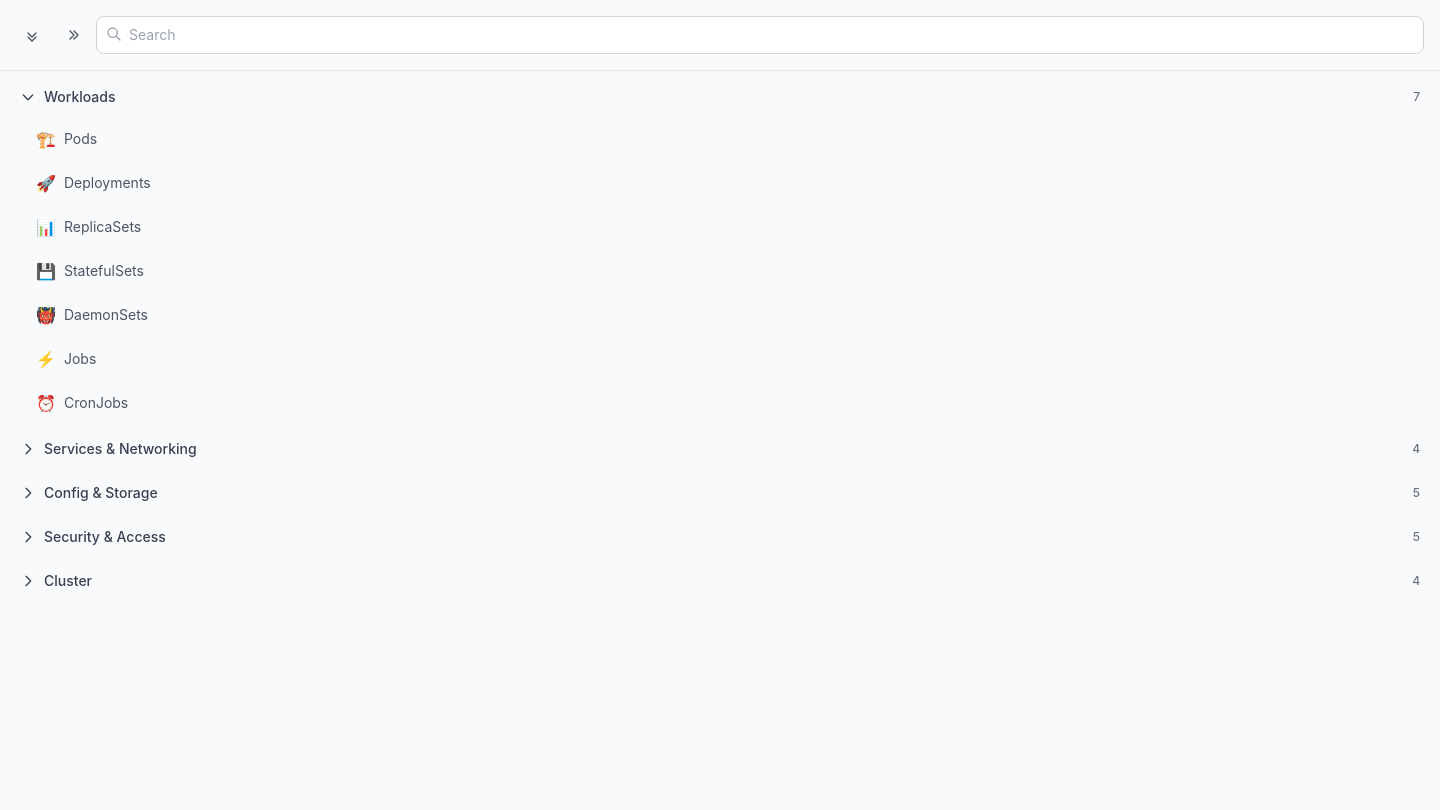
Test: ResourceTree › clearSearch › should restore expand/collapse buttons after clearing search
Type "pod" into the field with placeholder "Search".
click(760, 35); type("pod")  # box [96,16,1424,54]
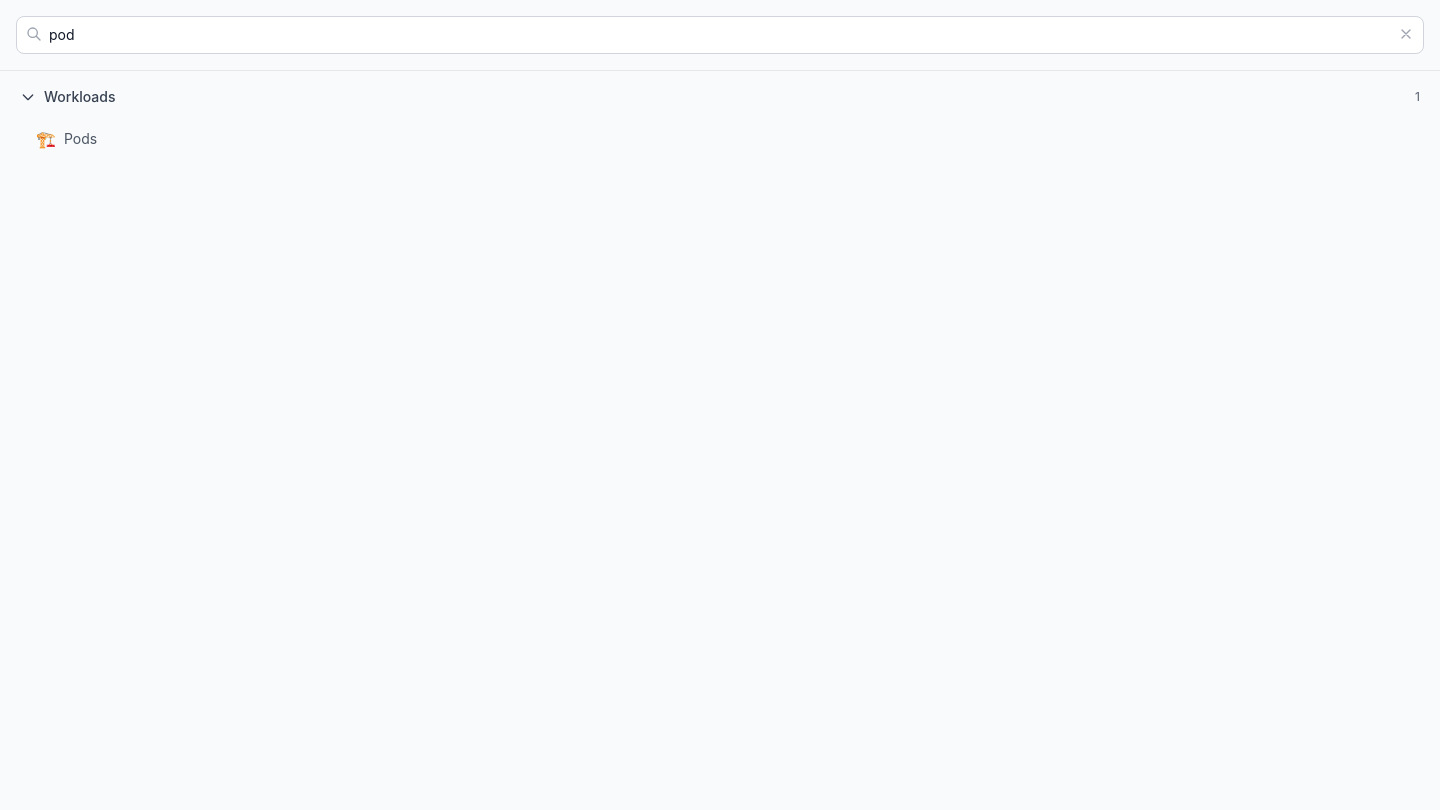
Click the button named "Clear search".
click(1406, 34)  # box [1398,26,1414,42]
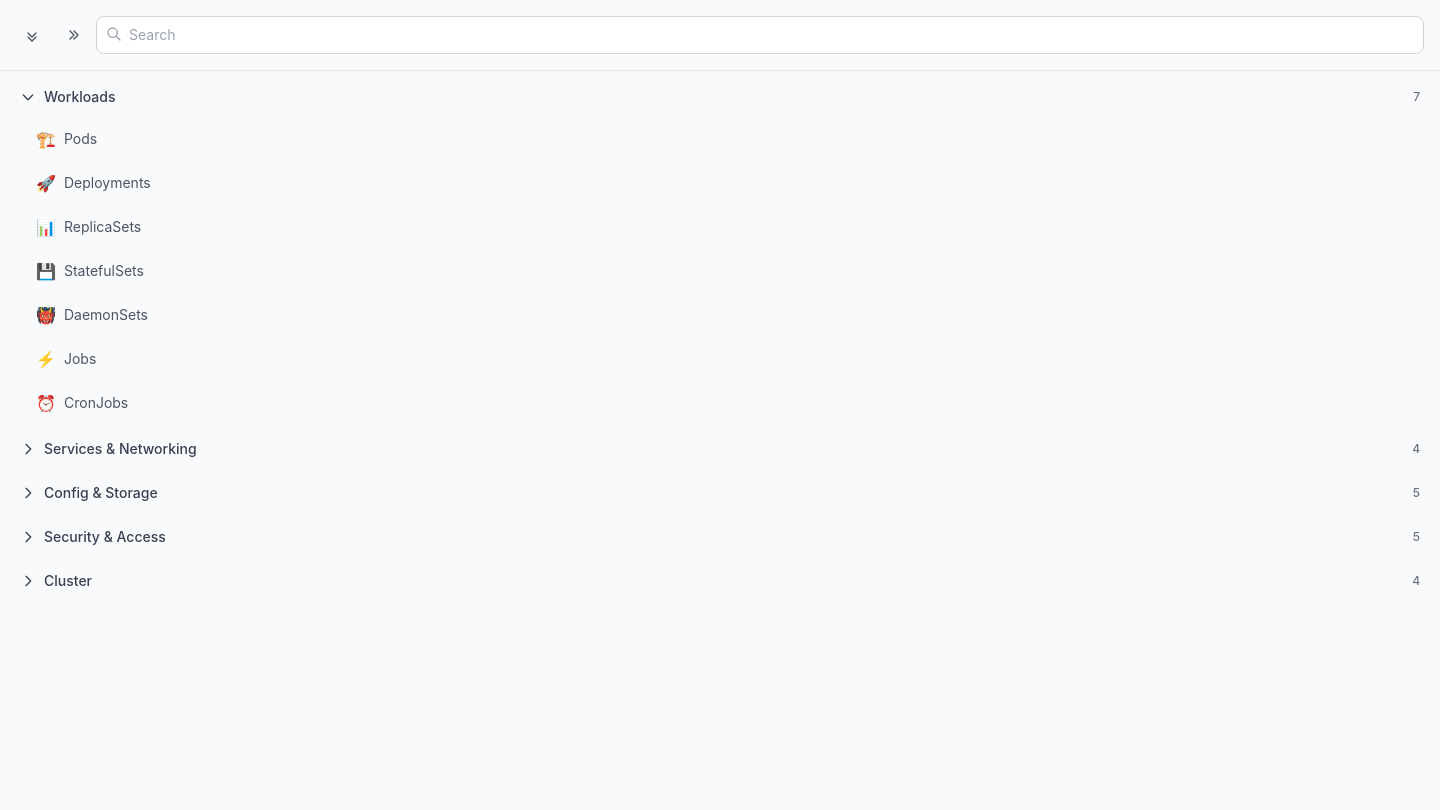
Check: the button titled "Expand All" is shown, box [16,16,48,54]
